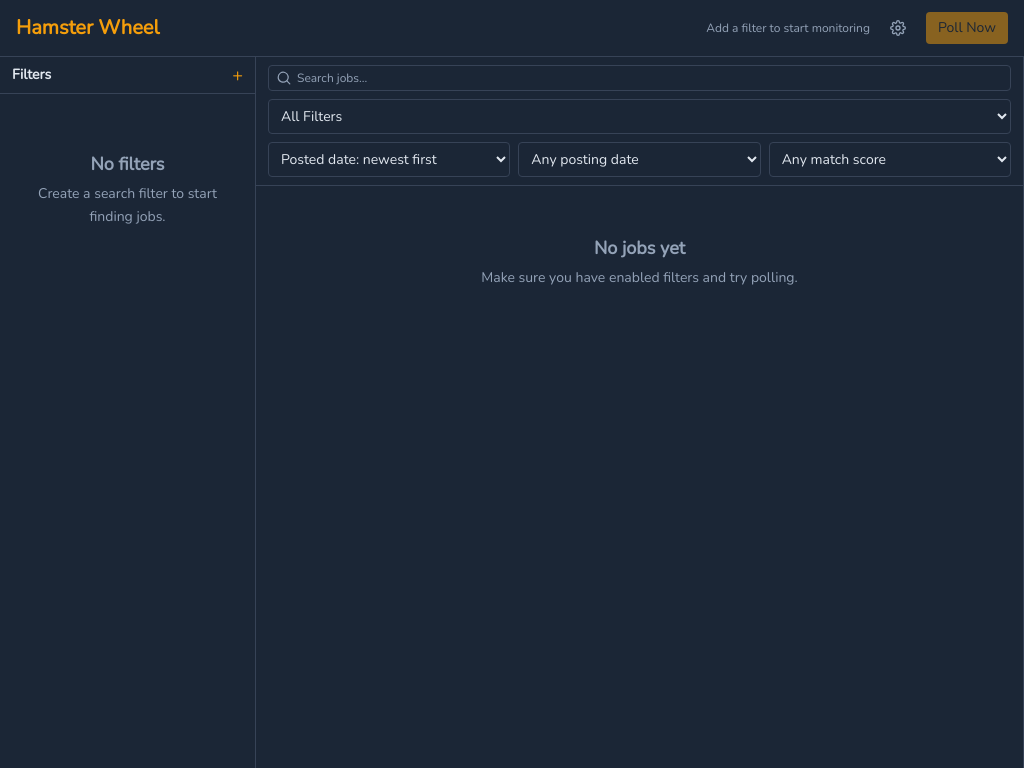
Test case: App › closes settings panel when close button is clicked
The width and height of the screenshot is (1024, 768).
Check: the heading "No jobs yet" is shown, box [594,234,685,263]
Click the button named "open settings": (898, 28) [886,16,910,40]
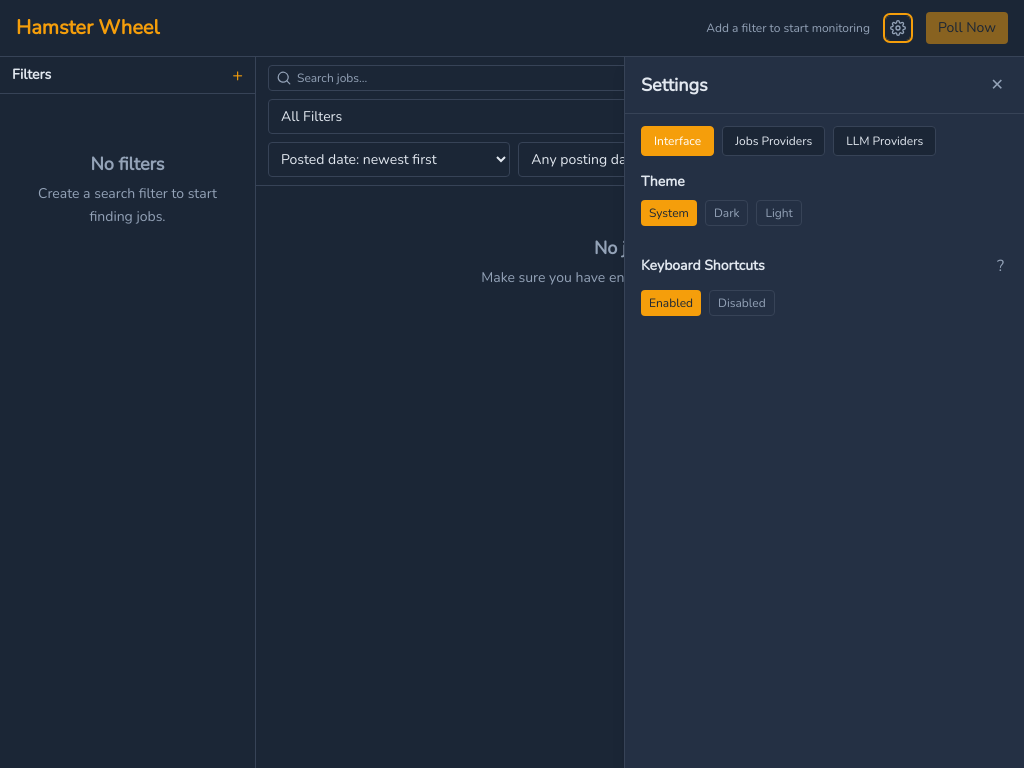
Check: the dialog "Settings" is shown, box [624,57,1023,767]
Click the button named "close settings": (997, 85) [987,69,1008,101]
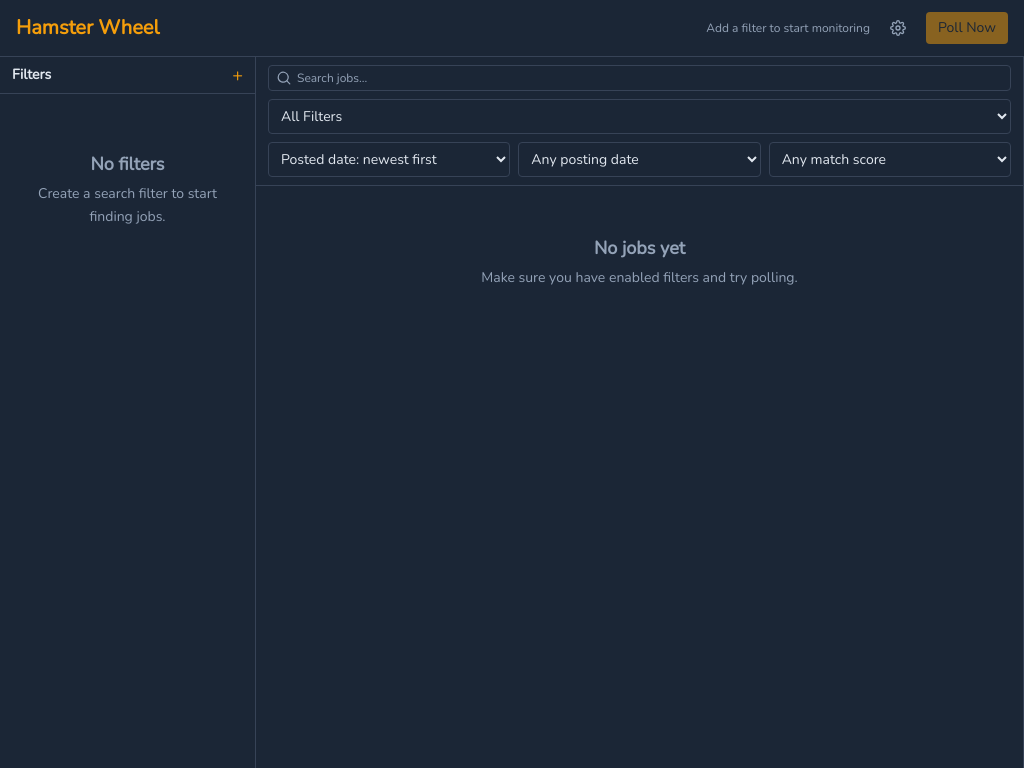
Check: the heading "Settings" is gone
